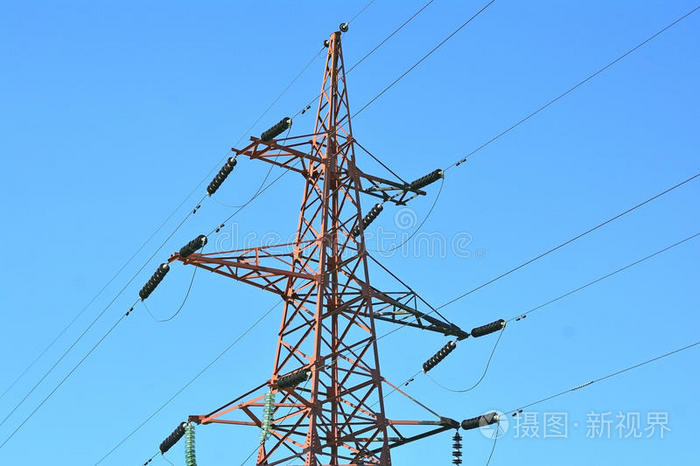insulator: (257, 391, 277, 445), (139, 262, 170, 296), (207, 155, 234, 191), (351, 204, 382, 234), (422, 339, 454, 368), (159, 423, 185, 451), (185, 424, 202, 466), (262, 117, 291, 140), (408, 170, 442, 187), (462, 412, 498, 428), (472, 320, 505, 337), (279, 371, 310, 388), (180, 234, 205, 255), (451, 434, 468, 463)
